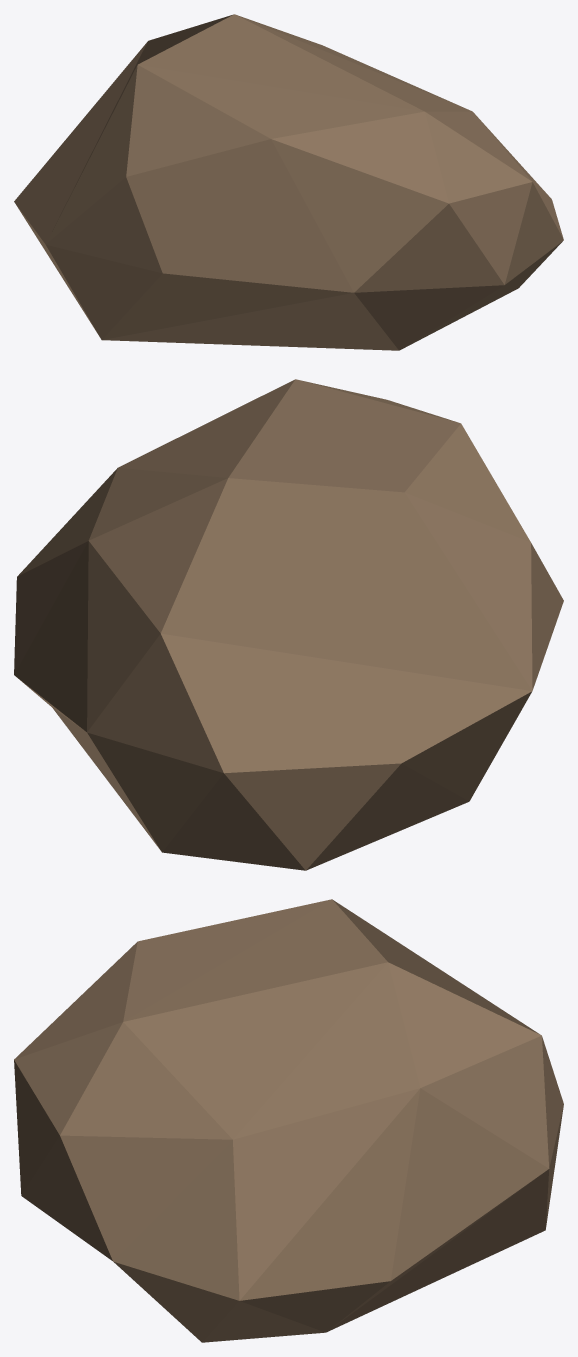
Rendered from stone_01.fbx.
The picture shows the model from 3 angles, top to bottom: view 1: azimuth 30°, elevation 25°; view 2: azimuth 150°, elevation 25°; view 3: azimuth 270°, elevation 25°; orthographic projection. The views are drawn at different scales.
Visible parts, largest first — view 1: stone_01; view 2: stone_01; view 3: stone_01.
Boxes of the visible parts, x1,y1,x2,y2 form: stone_01: (14, 14, 563, 350); stone_01: (14, 379, 563, 870); stone_01: (14, 899, 563, 1342).
Size of the model in its own units: 15.61 by 8.19 by 14.72.
1 material, 1 textured.
